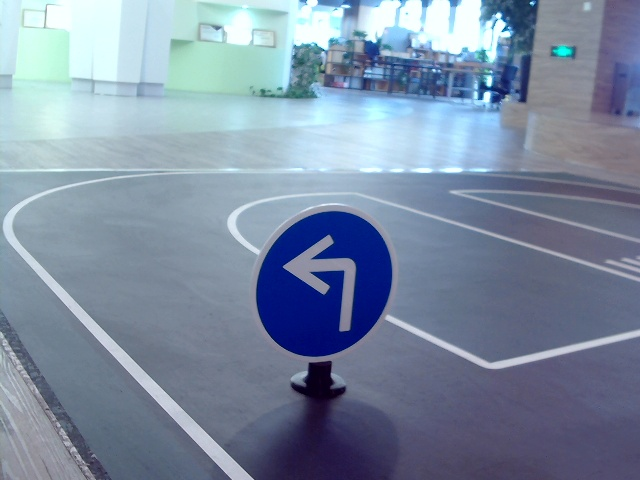turn_left: (284, 232, 360, 330)
